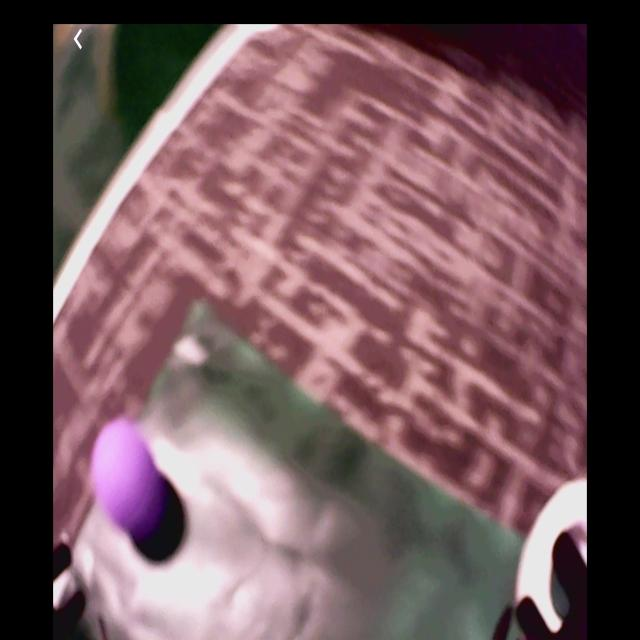ball: (91, 420, 159, 533)
